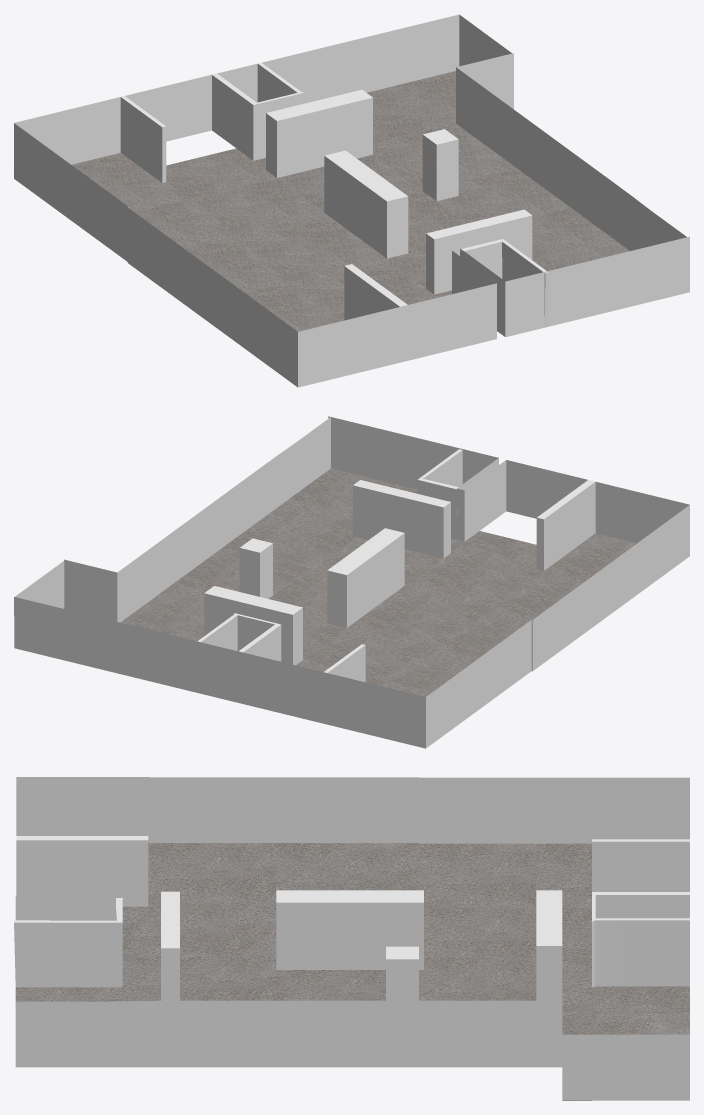
Rendered from 4floor.fbx.
The picture shows the model from 3 angles, top to bottom: view 1: azimuth 30°, elevation 25°; view 2: azimuth 150°, elevation 25°; view 3: azimuth 270°, elevation 25°; orthographic projection. The views are drawn at different scales.
Visible parts, largest first — view 1: floor_4f; view 2: floor_4f; view 3: floor_4f.
Boxes of the visible parts, bbox=[...] form: floor_4f: bbox=[14, 14, 689, 387]; floor_4f: bbox=[14, 416, 689, 748]; floor_4f: bbox=[14, 777, 689, 1100].
Size of the model in its own units: 0.4106 by 0.0502 by 0.455.
1 material, 1 textured.
